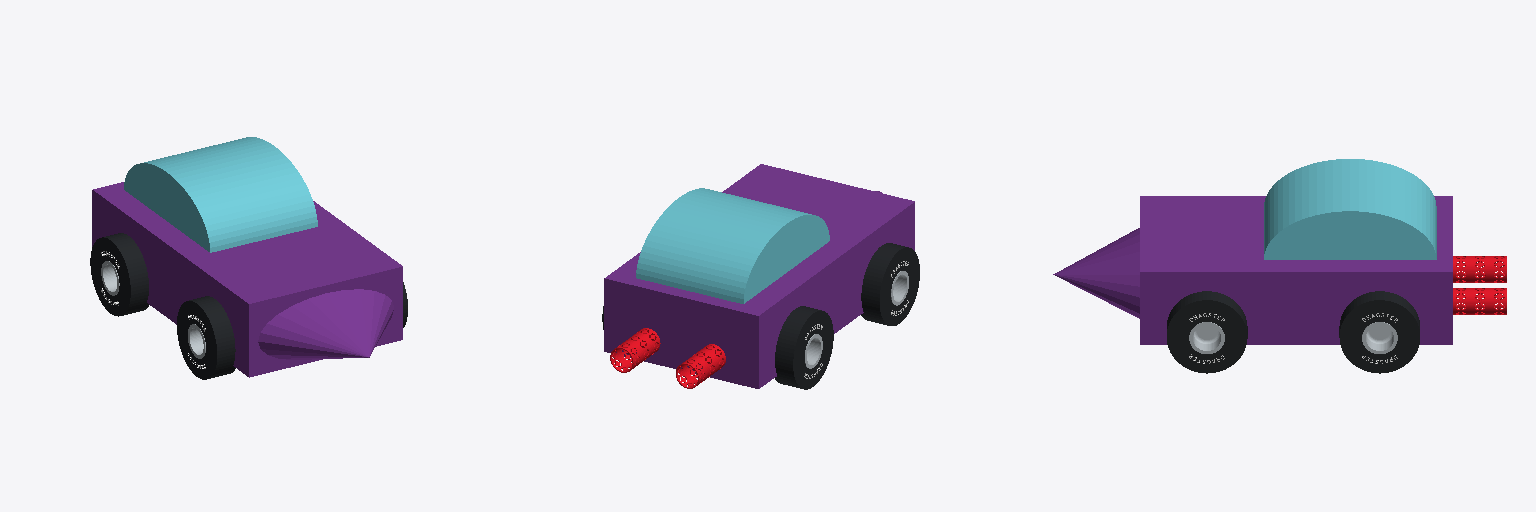
The model's file is tinker.obj.
3 views of the same model, side by side, from view 1: azimuth 30°, elevation 25°; view 2: azimuth 150°, elevation 25°; view 3: azimuth 270°, elevation 25° (orthographic).
Parts seen in each view (by area): view 1: obj_0; view 2: obj_0; view 3: obj_0.
Part boxes in pixels (x1,y1,x2,y2): obj_0: (90, 137, 407, 379); obj_0: (602, 164, 919, 389); obj_0: (1053, 159, 1506, 373).
Size of the model in its own units: 41 by 29 by 84.